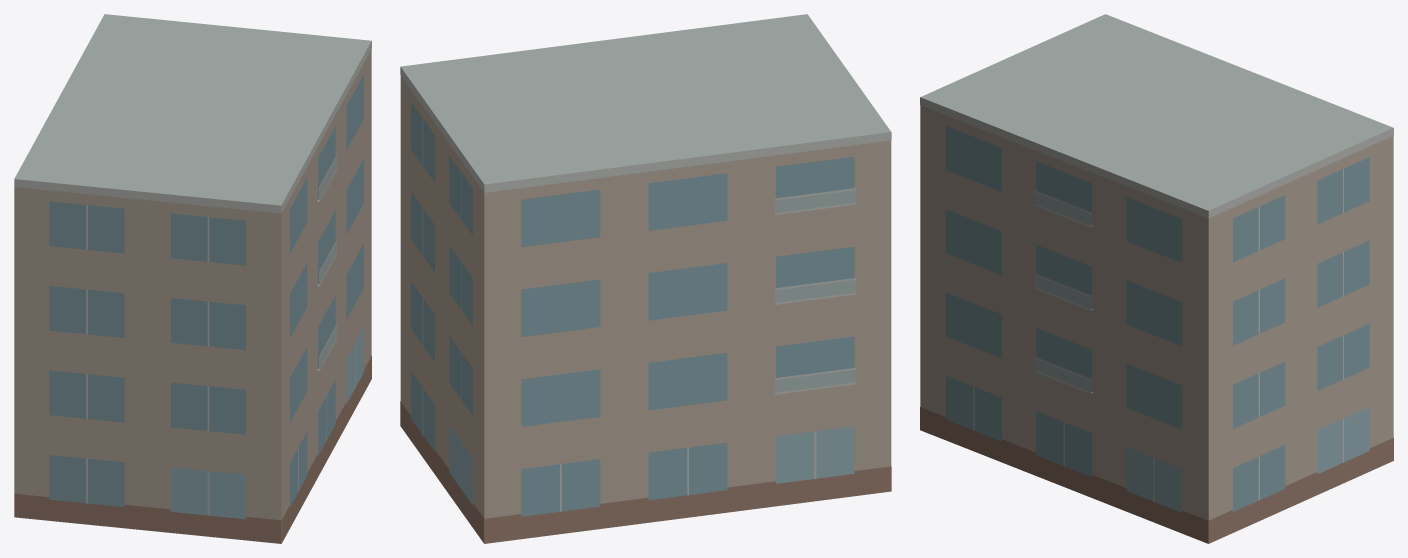
Rendered from survey-upis-32685024.glb.
3 renders of one model, left to right at view 1: azimuth 30°, elevation 25°; view 2: azimuth 150°, elevation 25°; view 3: azimuth 270°, elevation 25°, orthographic. The views are drawn at different scales.
Visible parts, largest first — view 1: survey-upis-32685024.tmp; view 2: survey-upis-32685024.tmp; view 3: survey-upis-32685024.tmp.
Boxes of the visible parts, <box> form: survey-upis-32685024.tmp: <box>14,14,371,543</box>; survey-upis-32685024.tmp: <box>400,14,891,543</box>; survey-upis-32685024.tmp: <box>920,14,1393,543</box>.
Bounding box in the file's own units: 13.32 × 10.5 × 13.54.
